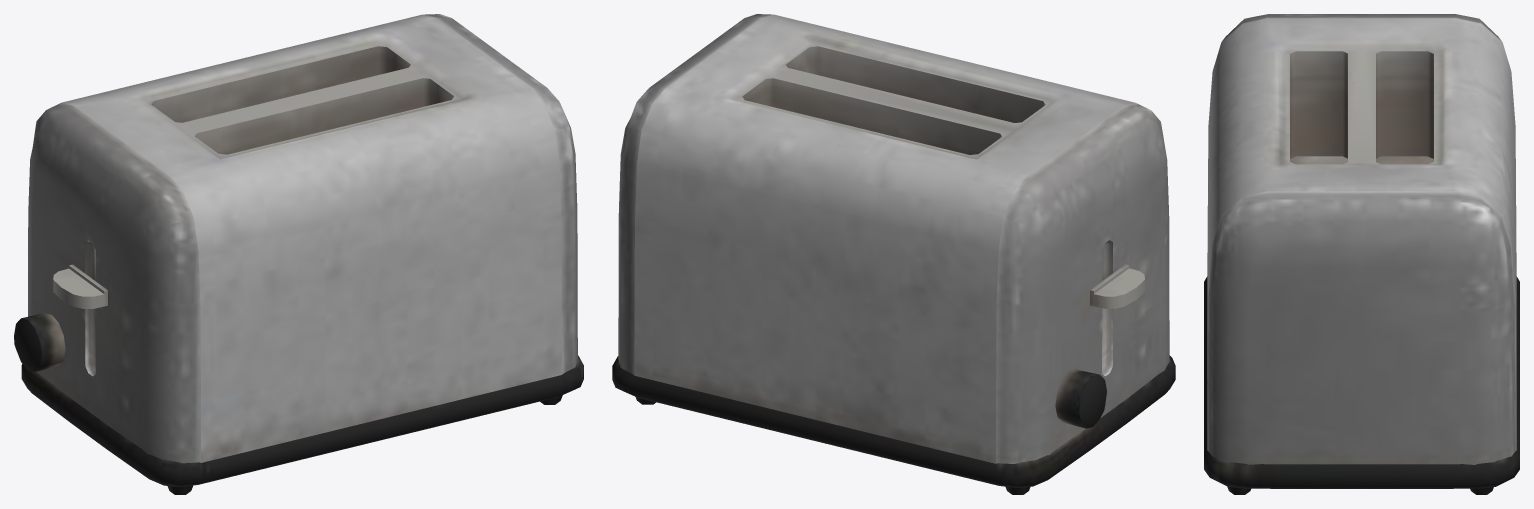
File: toaster.glb
3 renders of one model, left to right at view 1: azimuth 30°, elevation 25°; view 2: azimuth 150°, elevation 25°; view 3: azimuth 270°, elevation 25°, orthographic.
Visible parts, largest first — view 1: Toaster_A; view 2: Toaster_A; view 3: Toaster_A.
Part boxes in pixels (x1=…): Toaster_A: x1=14, y1=14, x2=583, y2=494; Toaster_A: x1=612, y1=14, x2=1175, y2=494; Toaster_A: x1=1204, y1=14, x2=1519, y2=494.
Bounding box in the file's own units: 0.3974 × 0.2501 × 0.2405.
Materials: 1 (1 with a texture image).
